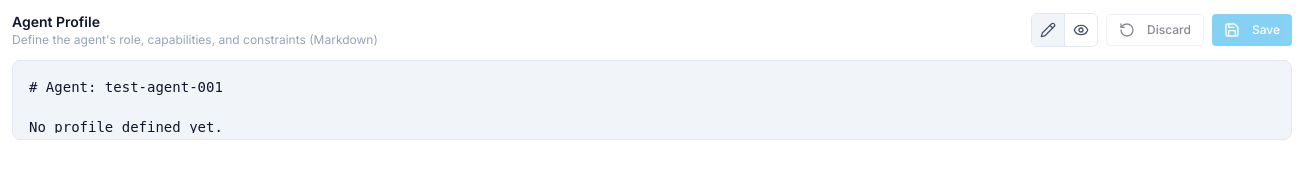
Test: AgentProfilePage › shows unsaved changes indicator when edited
Type "new content" into the text box with test id "profile-editor" at (652, 97), box [13,61,1291,133]
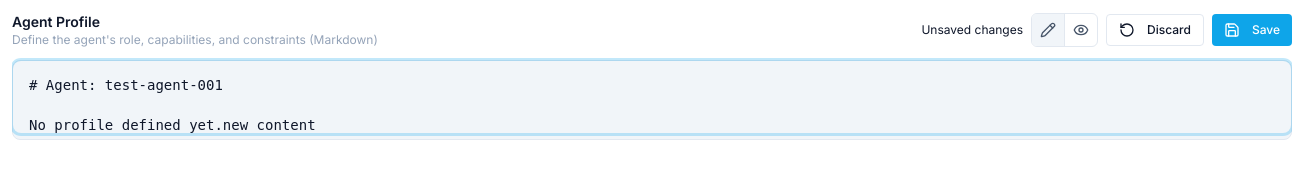
expect the text "Unsaved changes" is shown: met, box [921,22,1023,38]
